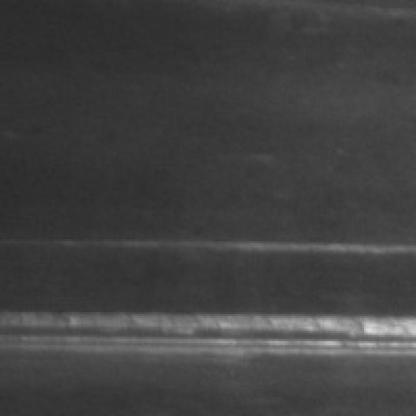scratches: (6, 314, 416, 366), (62, 238, 416, 271)
